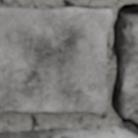brick: (0, 7, 111, 112), (119, 23, 137, 117)
broken_brick: (0, 126, 137, 137)
crack: (111, 2, 137, 135)
